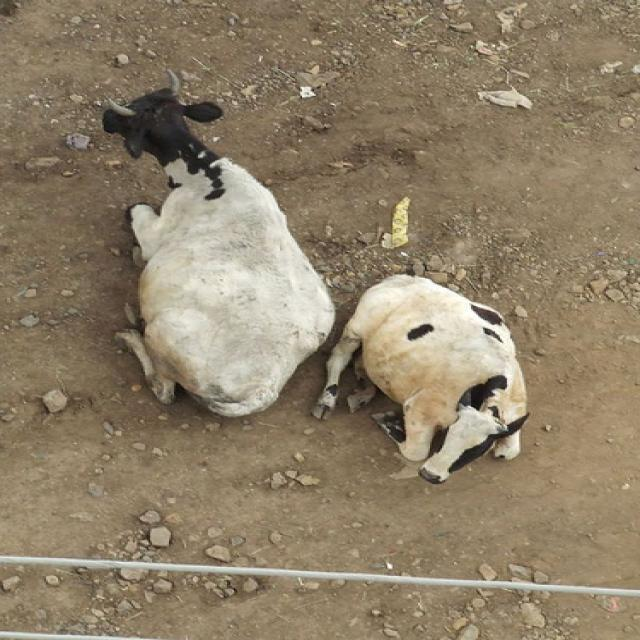cow: (101, 86, 335, 415), (311, 272, 527, 487)
